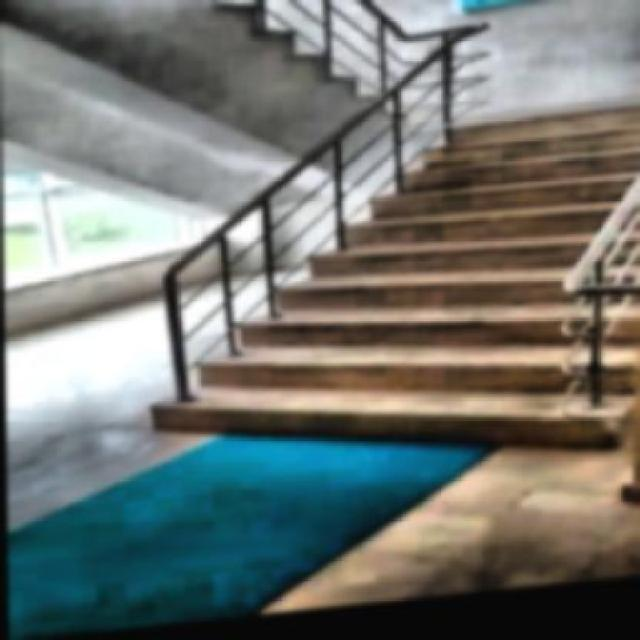stair: (120, 98, 638, 494)
